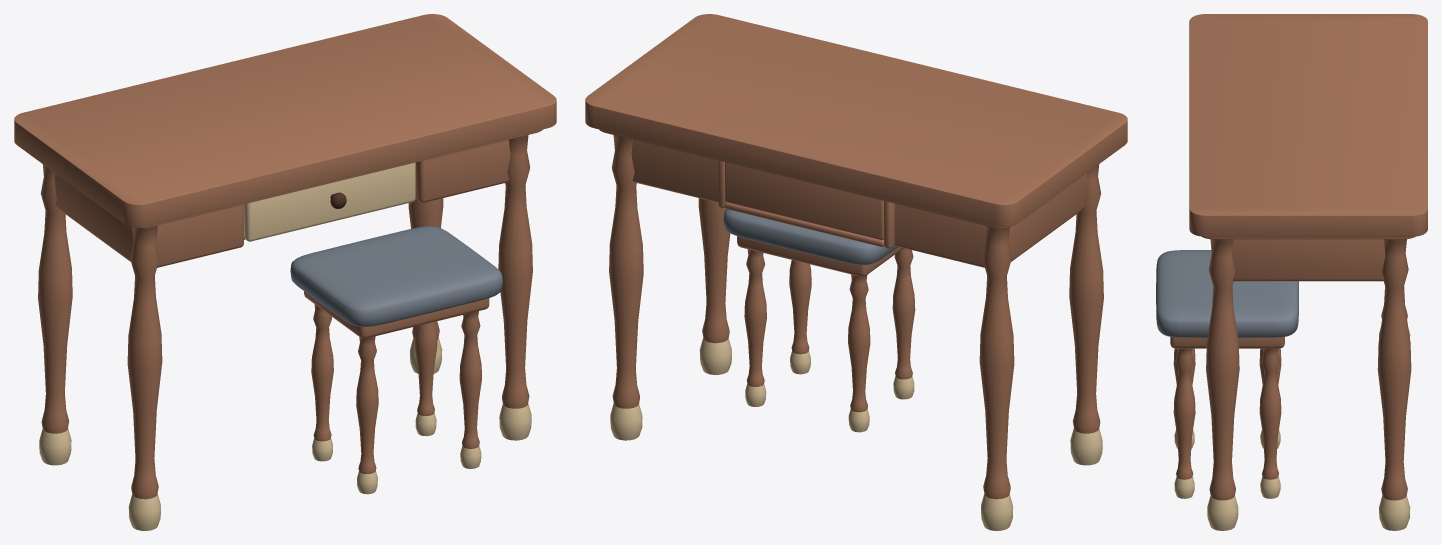
File: penteadeira_banquinho_marrom.glb
3 views of the same model, side by side, from view 1: azimuth 30°, elevation 25°; view 2: azimuth 150°, elevation 25°; view 3: azimuth 270°, elevation 25° (orthographic). The views are drawn at different scales.
Parts seen in each view (by area): view 1: penteadeira_banquinho_marrom, gaveta_1; view 2: penteadeira_banquinho_marrom; view 3: penteadeira_banquinho_marrom.
Part boxes in pixels (left/top/right/bottom): penteadeira_banquinho_marrom: left=14, top=14, right=556, bottom=530; gaveta_1: left=244, top=162, right=415, bottom=241; penteadeira_banquinho_marrom: left=585, top=14, right=1127, bottom=530; penteadeira_banquinho_marrom: left=1156, top=14, right=1427, bottom=530.
Bounding box in the file's own units: 1 × 0.75 × 0.57.
Materials: 1 (1 with a texture image).
